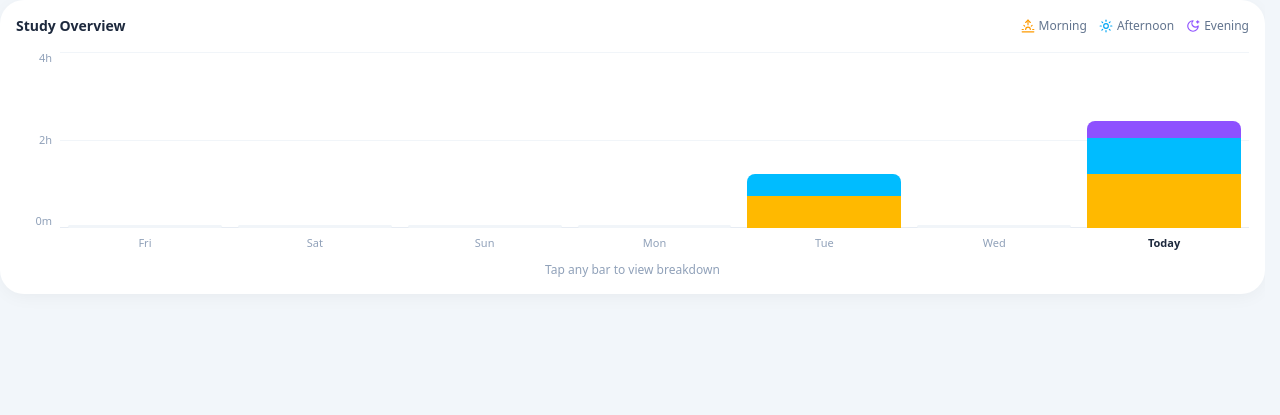
Test: StudyChart & StatsView › displays formatted hours/minutes for mixed-duration sessions and never displays raw pomodoro counts
The width and height of the screenshot is (1280, 415).
Click the button named "Today: 2h 30m". click: (1164, 140)
box: [1083,52,1245,228]
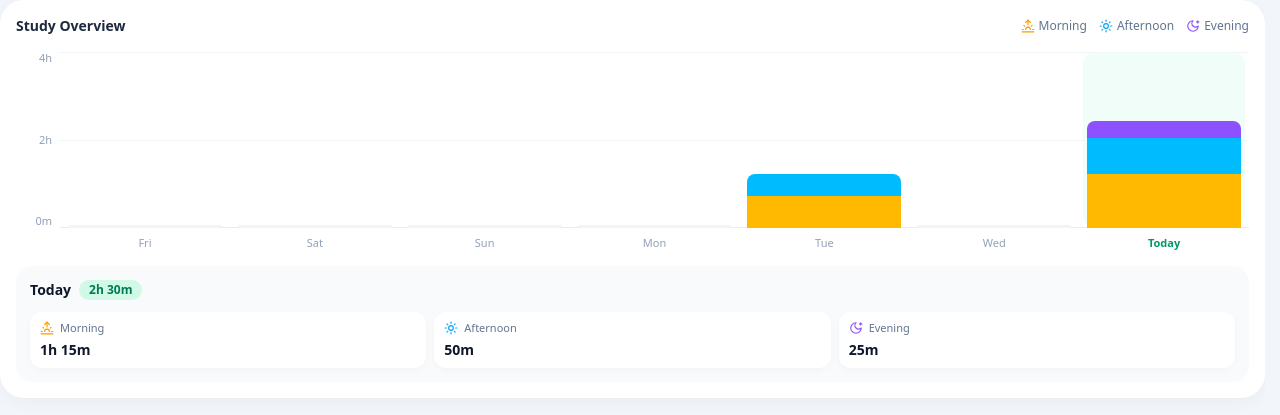
Now the element with test id "chart-day-detail" shows "2h 30m", box [89,281,132,298]
Now the element with test id "chart-day-detail" shows "1h 15m", box [40,340,91,359]
Now the element with test id "chart-day-detail" shows "50m", box [444,340,474,359]
Click the button with test id "chart-bar-2026-11-24". click: (824, 140)
box: [743,52,905,228]
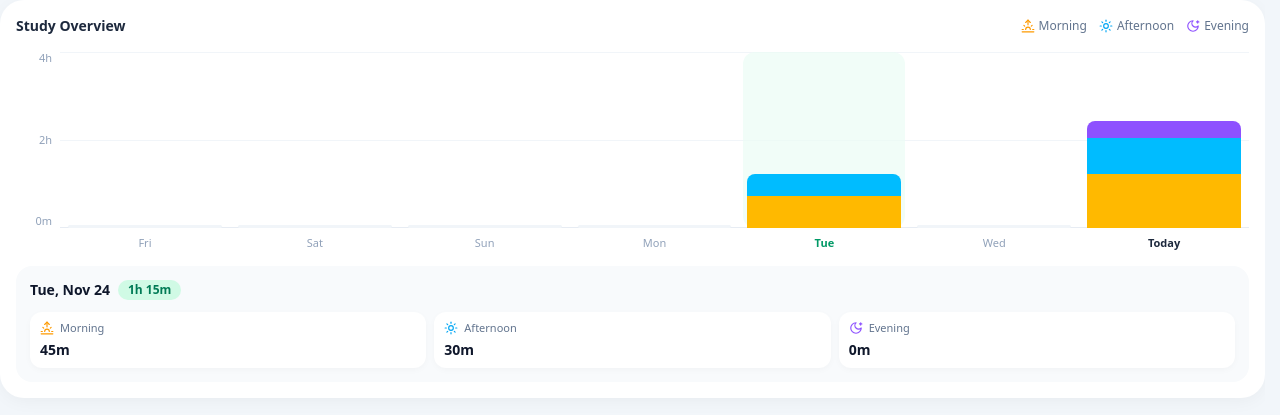
Now the element with test id "chart-day-detail" shows "1h 15m", box [128,281,171,298]
Now the element with test id "chart-day-detail" shows "30m", box [444,340,474,359]
Now the element with test id "chart-day-detail" shows "45m", box [40,340,70,359]
